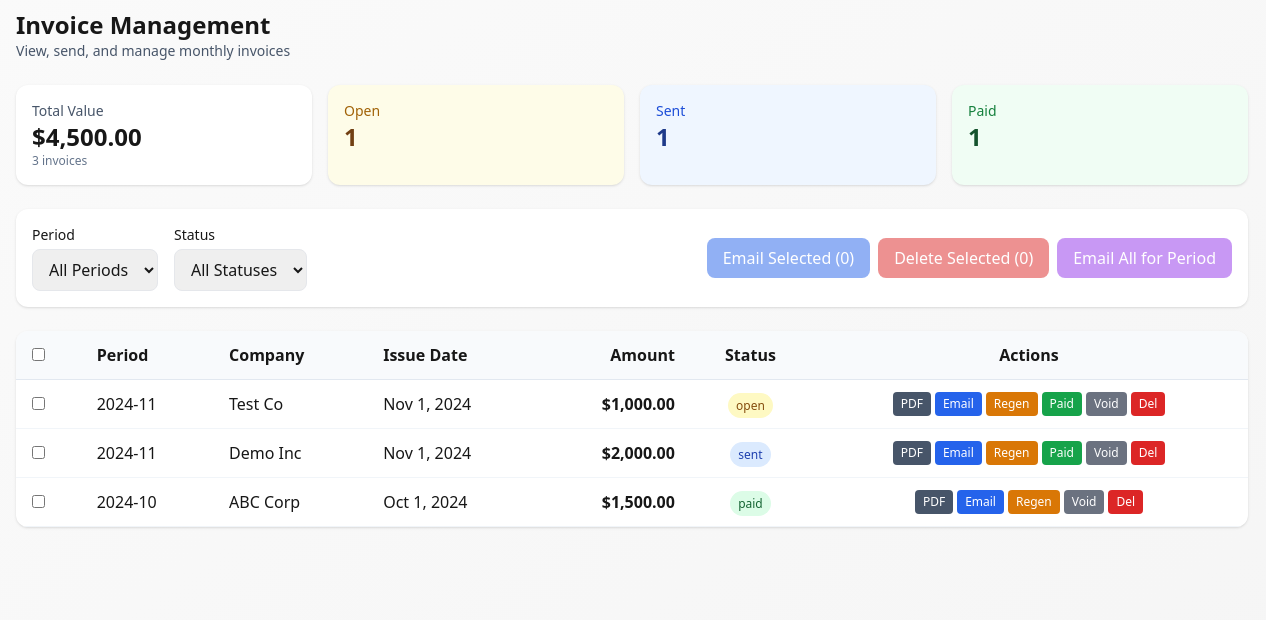
Test: InvoiceManager Component › Batch Email Operations › should show error if batch email fails
Click the checkbox in the row of "Test Co" at (38, 404), box [32, 397, 45, 410]
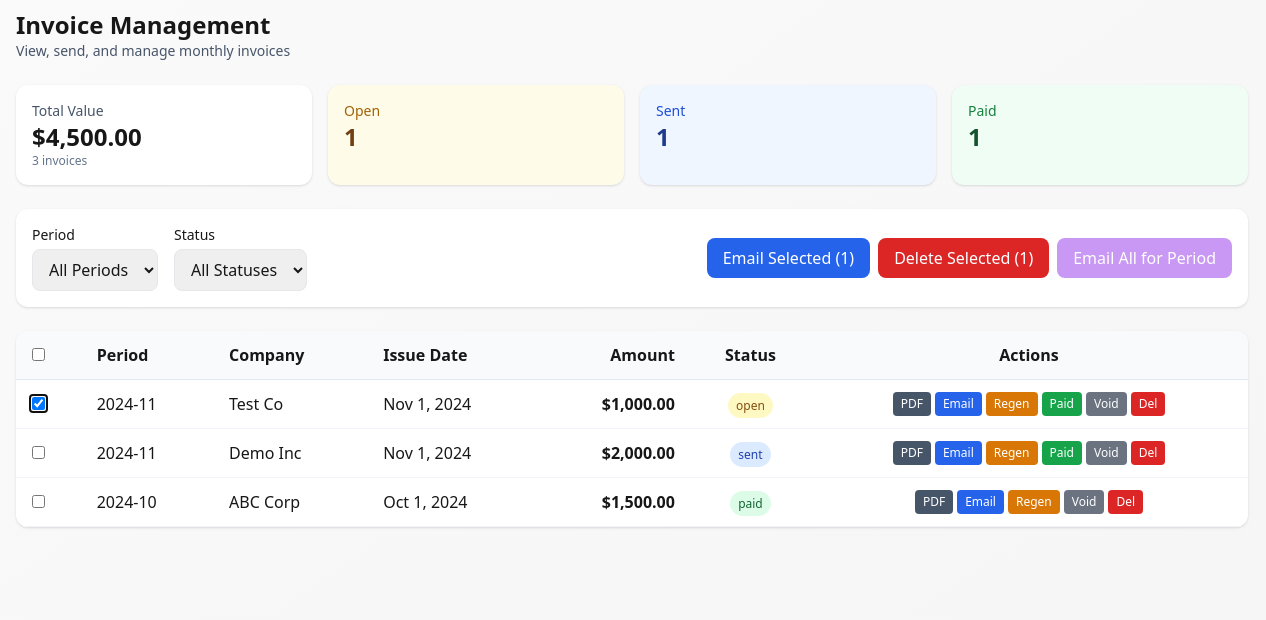
Click the button "Email Selected (1)" at (788, 258), box [707, 238, 870, 278]
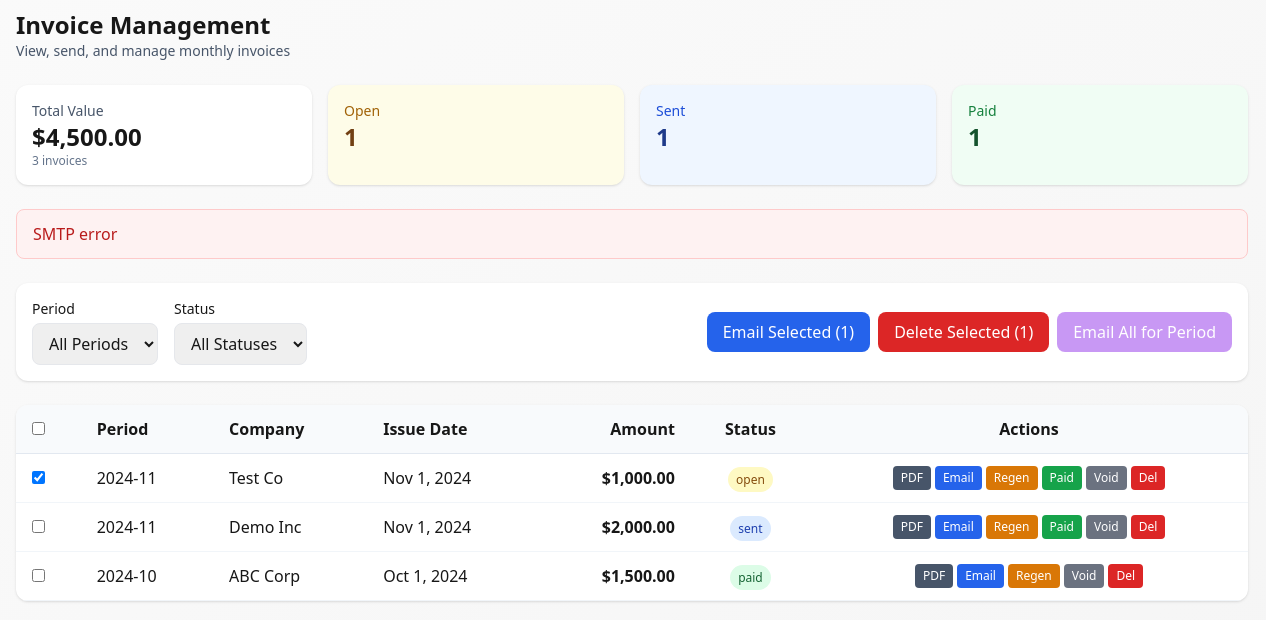
Expected: the text "SMTP error" is shown, [16, 209, 1248, 259]
